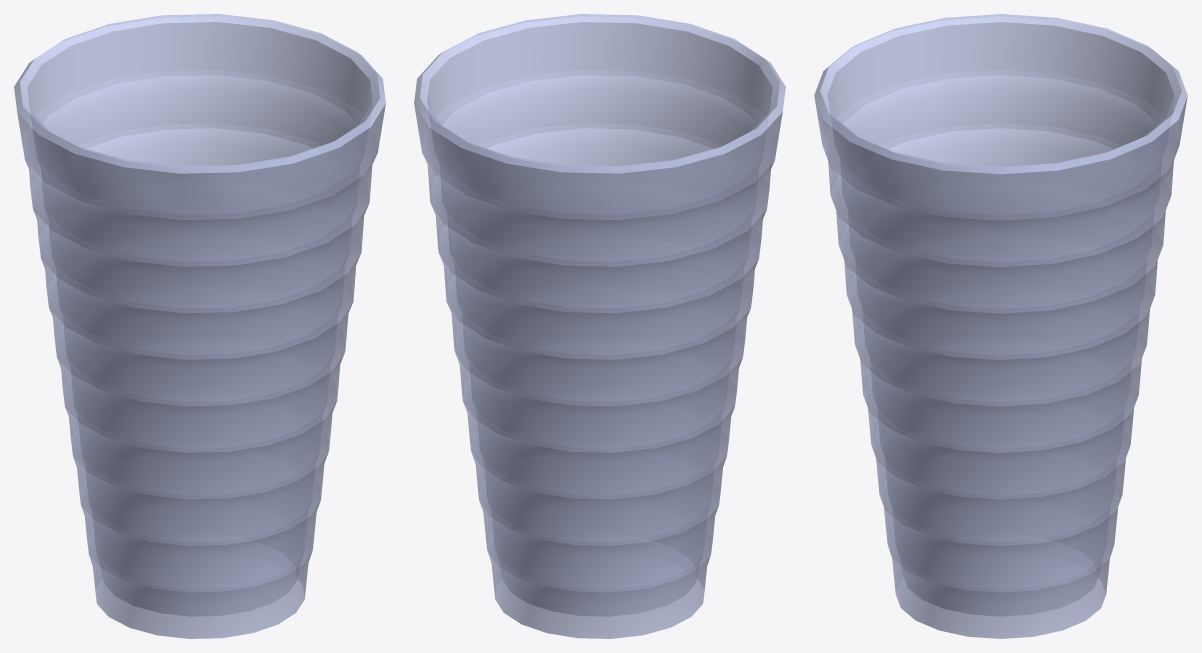
The model's file is tumblerglass_c02.fbx.
3 views of the same model, side by side, from view 1: azimuth 30°, elevation 25°; view 2: azimuth 150°, elevation 25°; view 3: azimuth 270°, elevation 25° (orthographic).
Visible parts, largest first — view 1: tumblerglass; view 2: tumblerglass; view 3: tumblerglass.
Part boxes in pixels (left/top/right/bottom): tumblerglass: left=14, top=14, right=385, bottom=638; tumblerglass: left=414, top=14, right=785, bottom=638; tumblerglass: left=814, top=14, right=1187, bottom=638.
Size of the model in its own units: 9.9 by 14.74 by 9.9.
